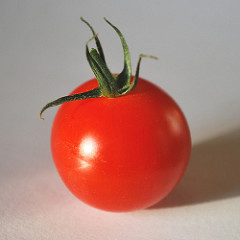tomato: (48, 68, 190, 211)
